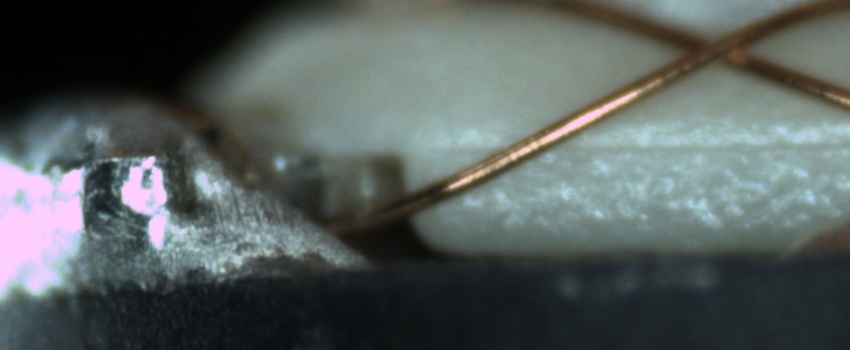CL: (664, 16, 764, 76)
DL: (442, 112, 850, 185)
